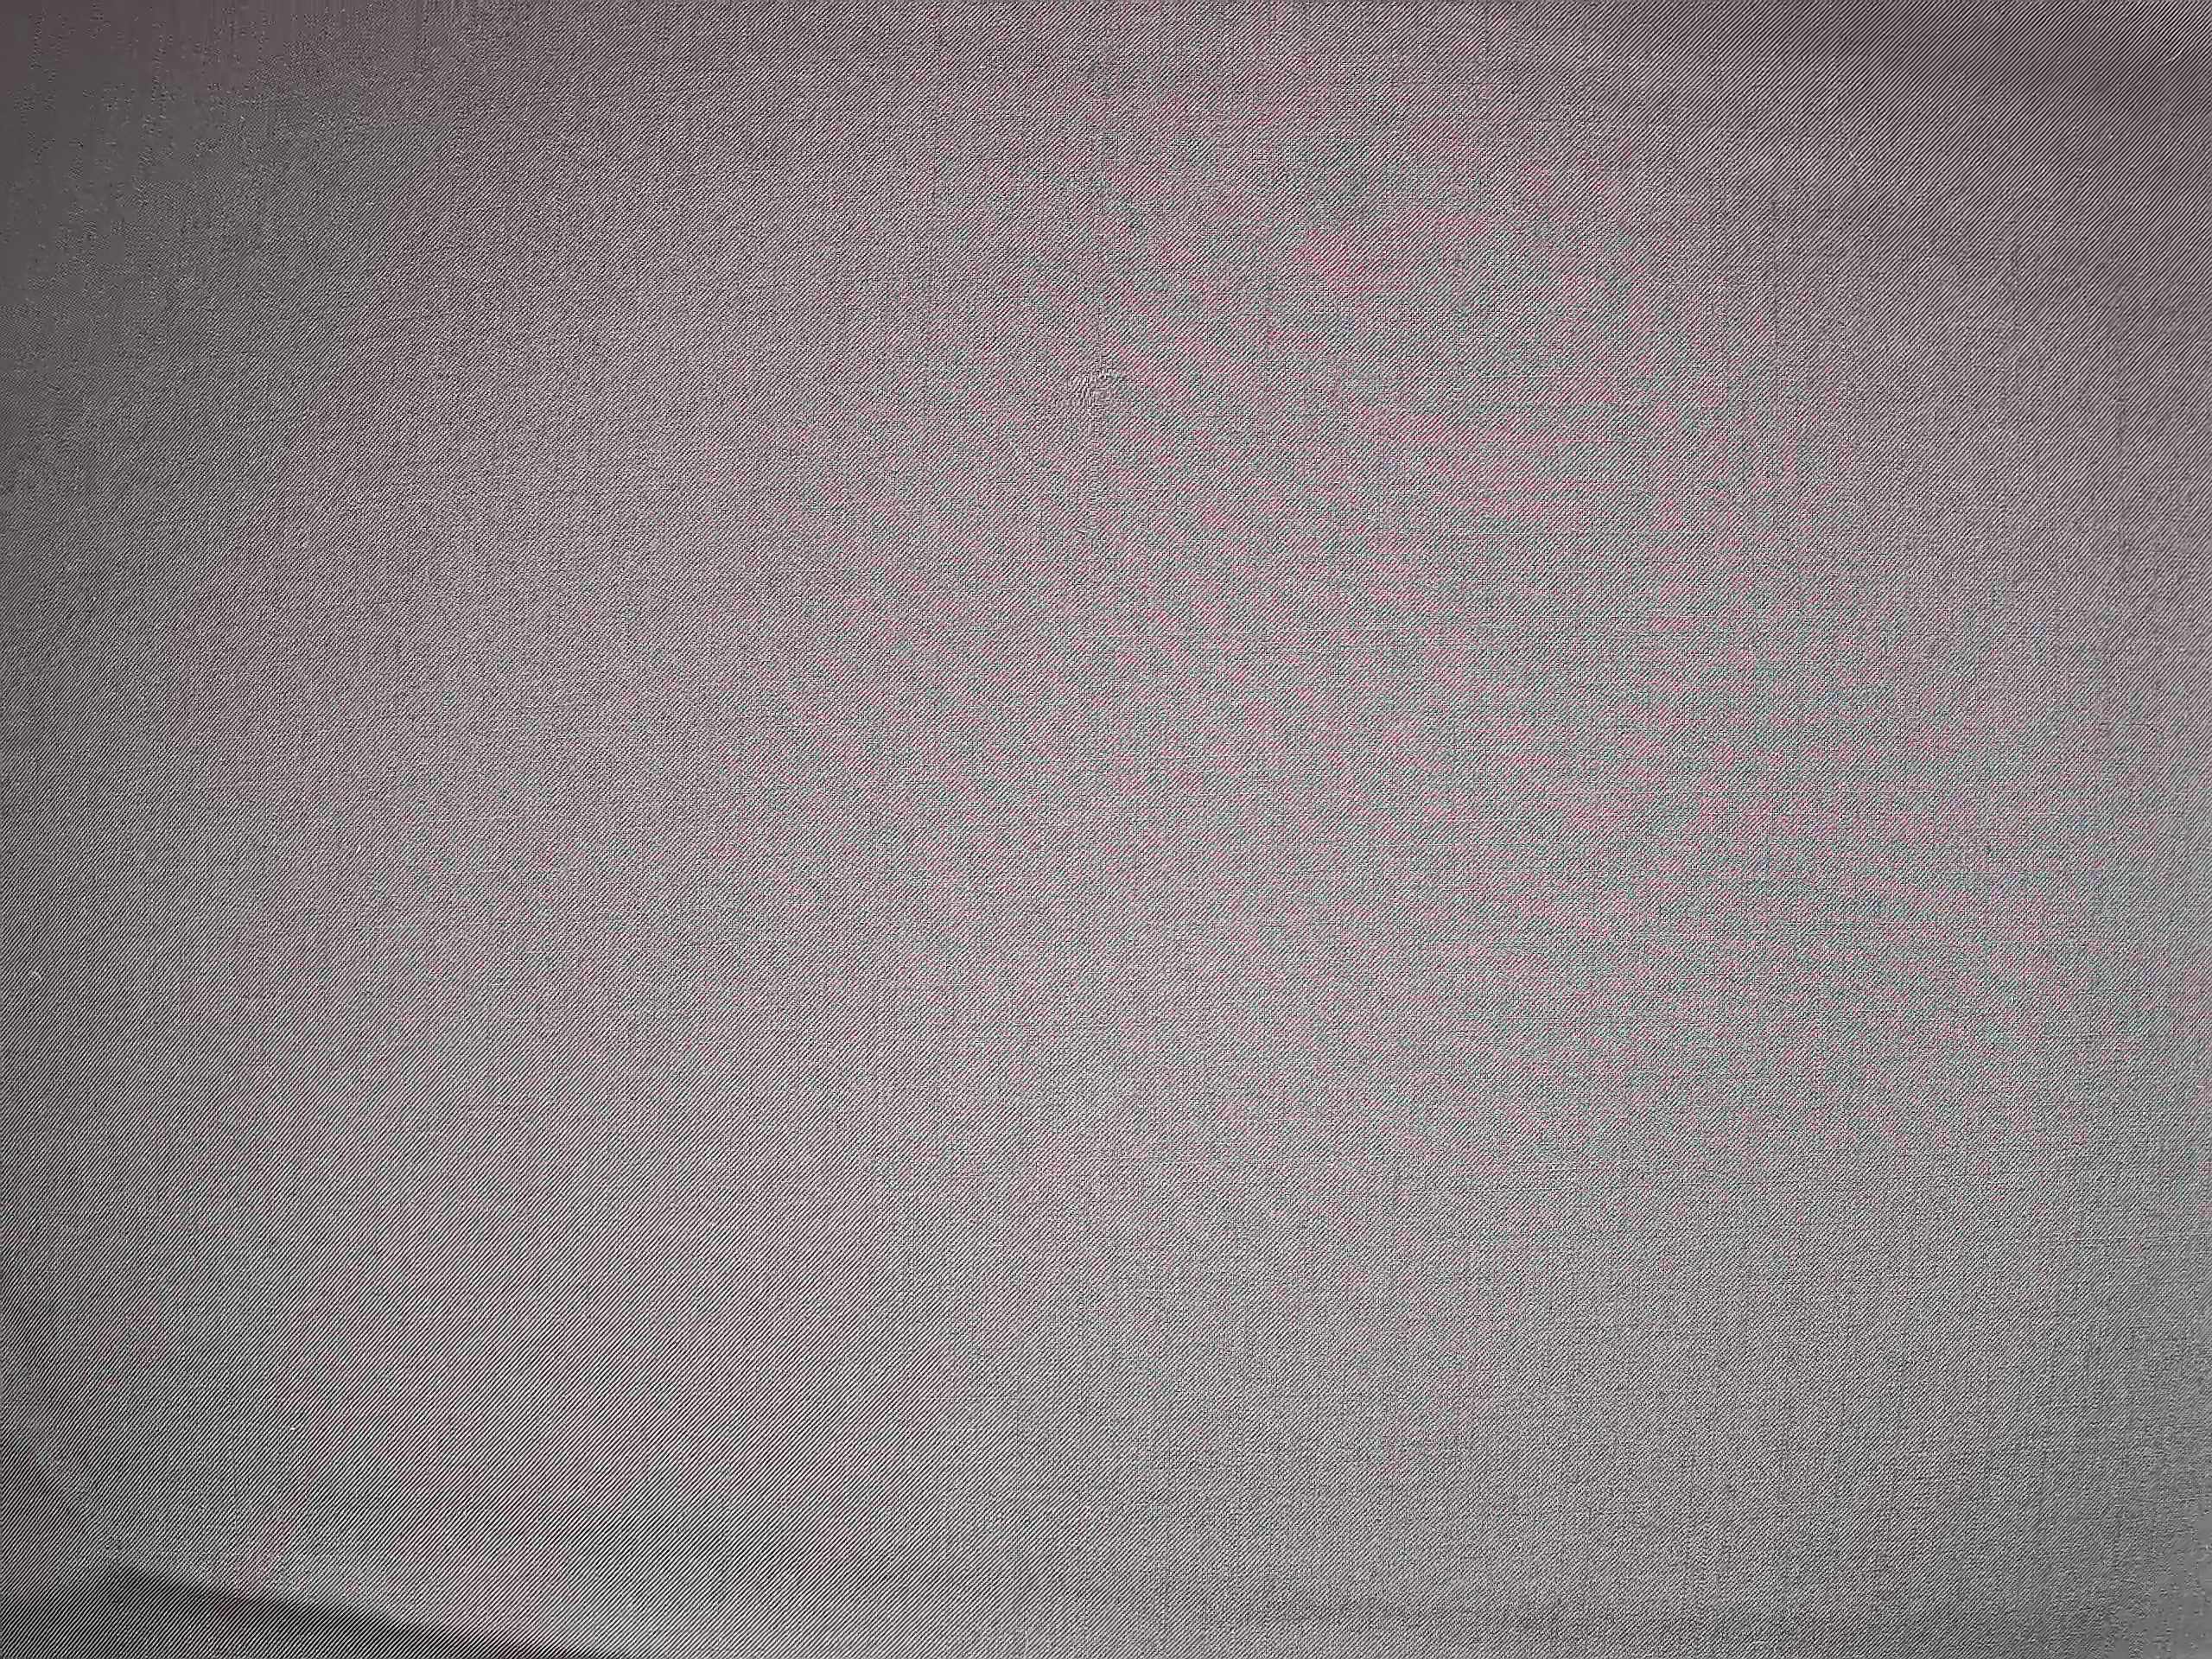jumps: (1042, 336, 1160, 479)
